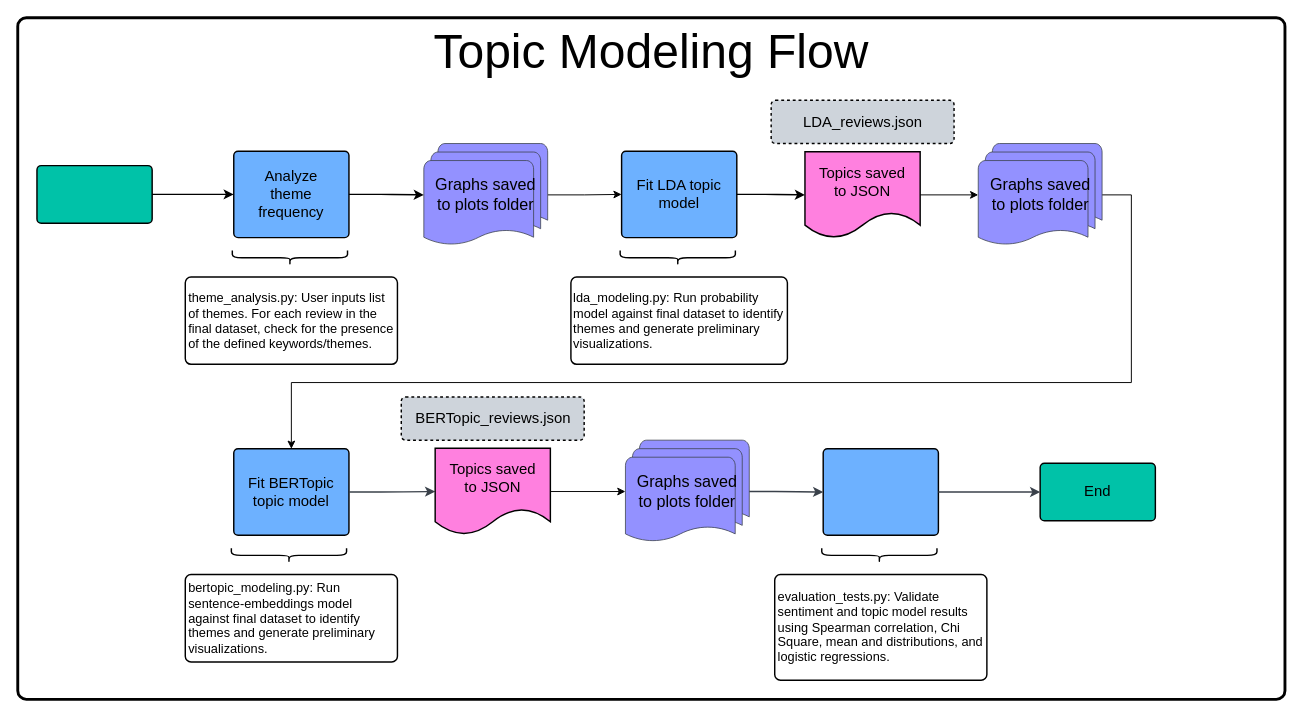
The diagram is 1303 pixels wide and 717 high, and some of its shapes have lost their labels. The shapes that lost their labels are listed below. From the top down, each one's box as (x1, y1, x2, y2) in pixels, then its label:
(36, 164, 152, 223): Start
(822, 448, 939, 535): Run statistical evaluations
